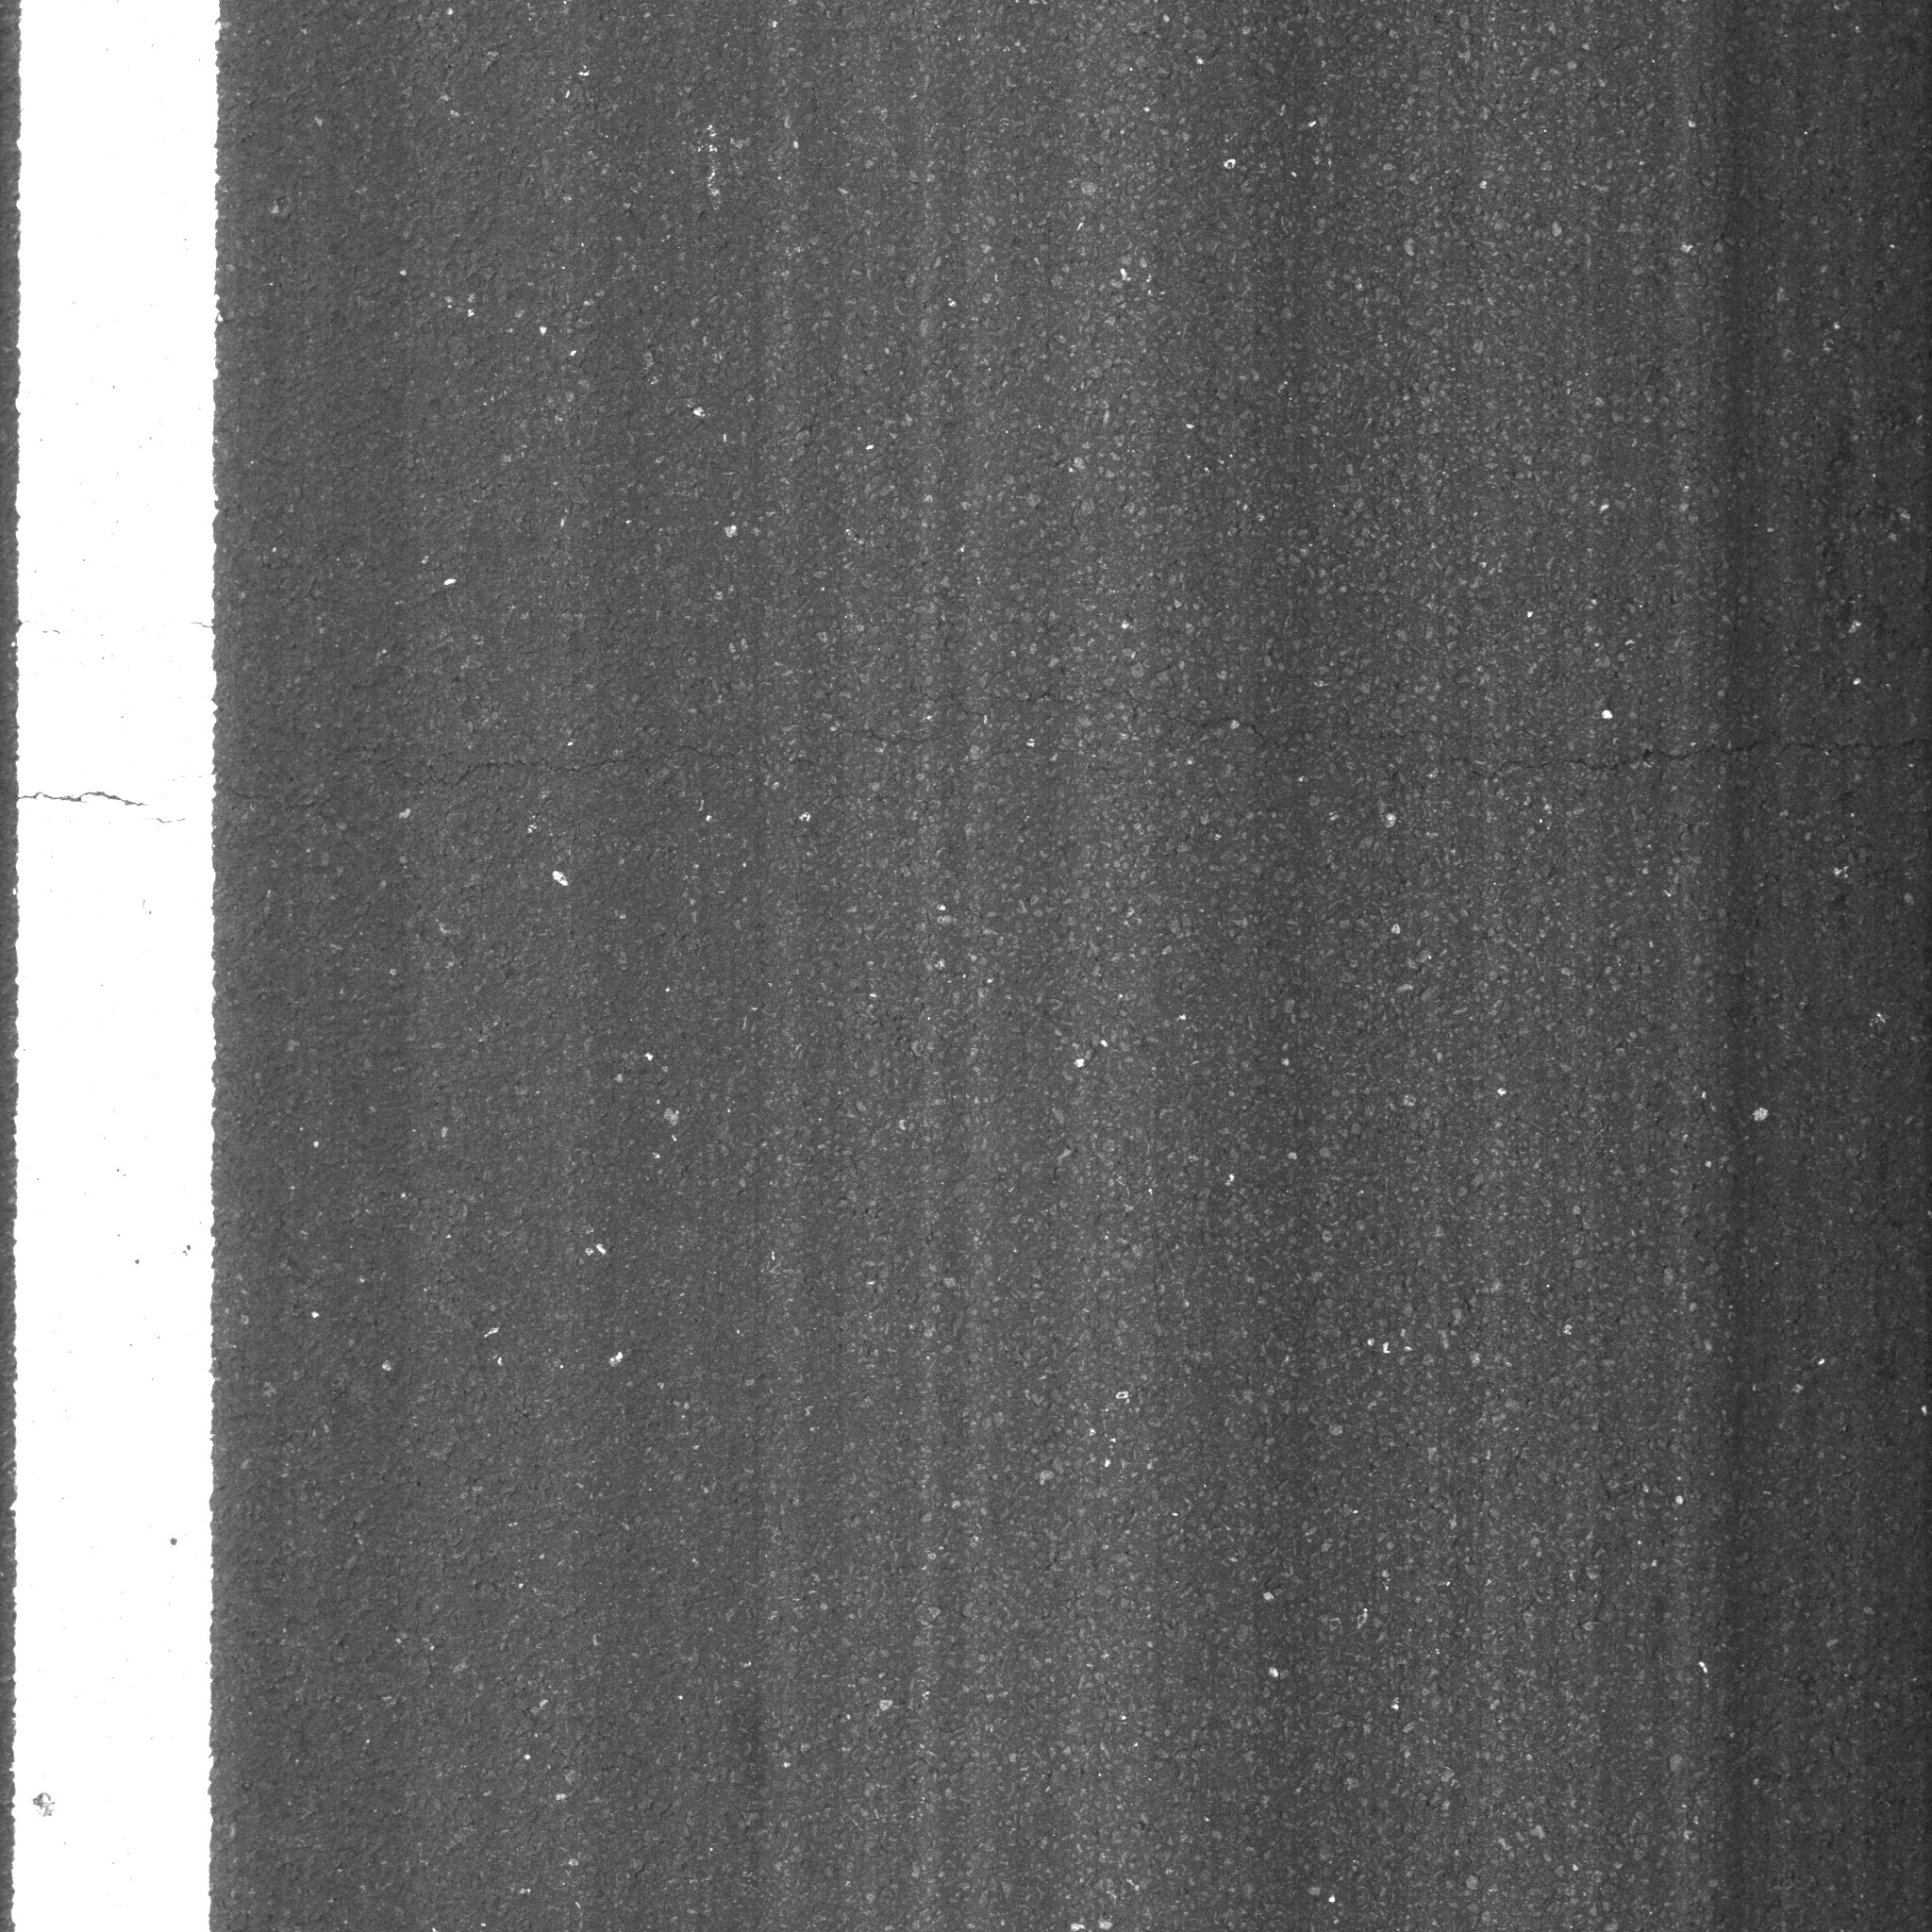transeverse: (21, 699, 1932, 867)
